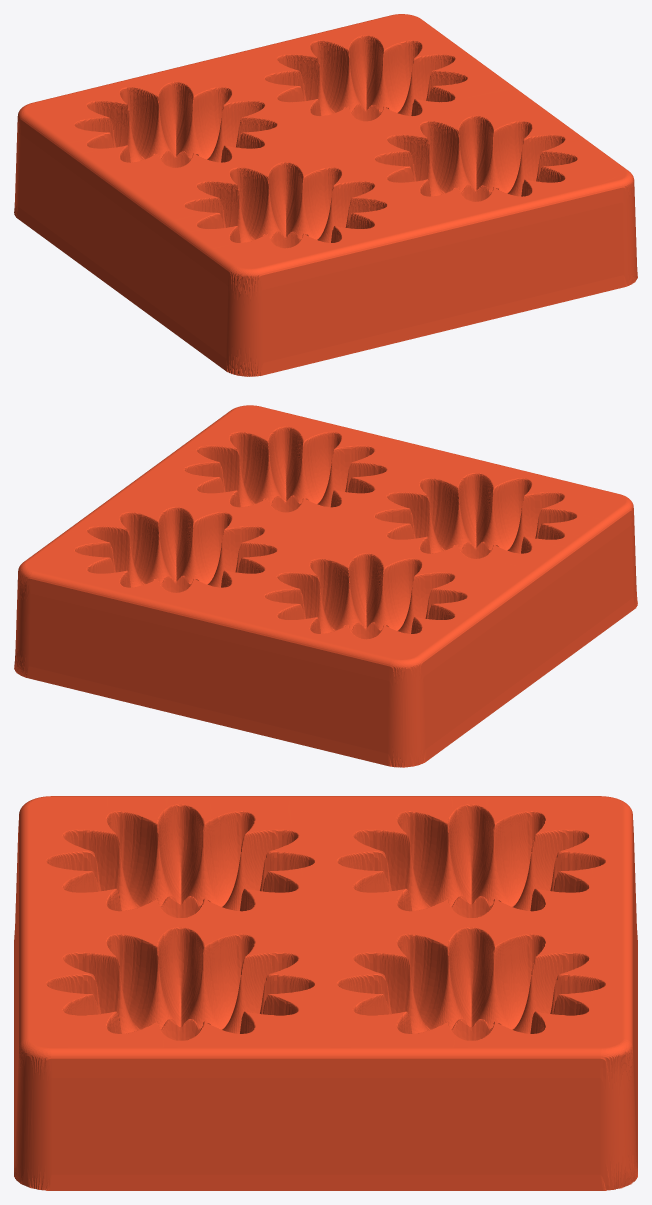
File: mold.glb
The picture shows the model from 3 angles, top to bottom: view 1: azimuth 30°, elevation 25°; view 2: azimuth 150°, elevation 25°; view 3: azimuth 270°, elevation 25°; orthographic projection. The views are drawn at different scales.
Parts seen in each view (by area): view 1: geometry_0; view 2: geometry_0; view 3: geometry_0.
Boxes of the visible parts, x1,y1,x2,y2 form: geometry_0: [14, 14, 637, 376]; geometry_0: [14, 405, 637, 767]; geometry_0: [14, 796, 637, 1190].
Bounding box in the file's own units: 0.1493 × 0.036 × 0.1493.
